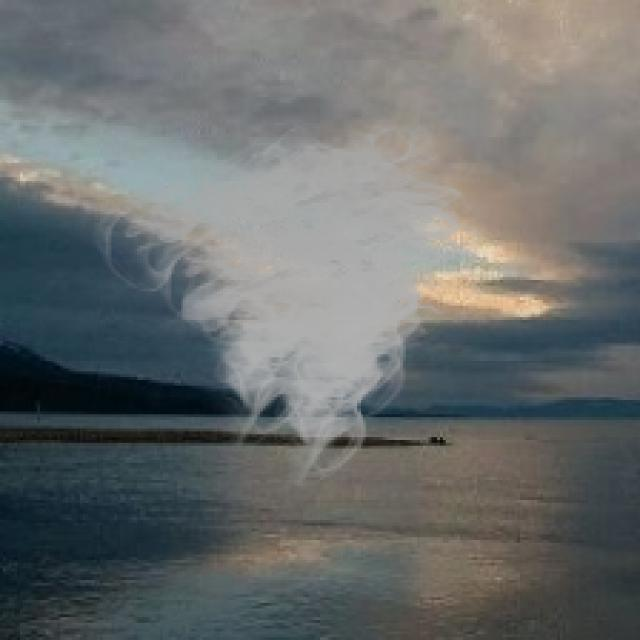Smoke: (89, 100, 498, 486)
